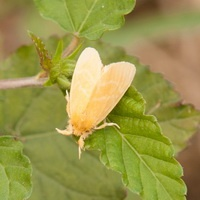insect: (56, 47, 135, 158)
